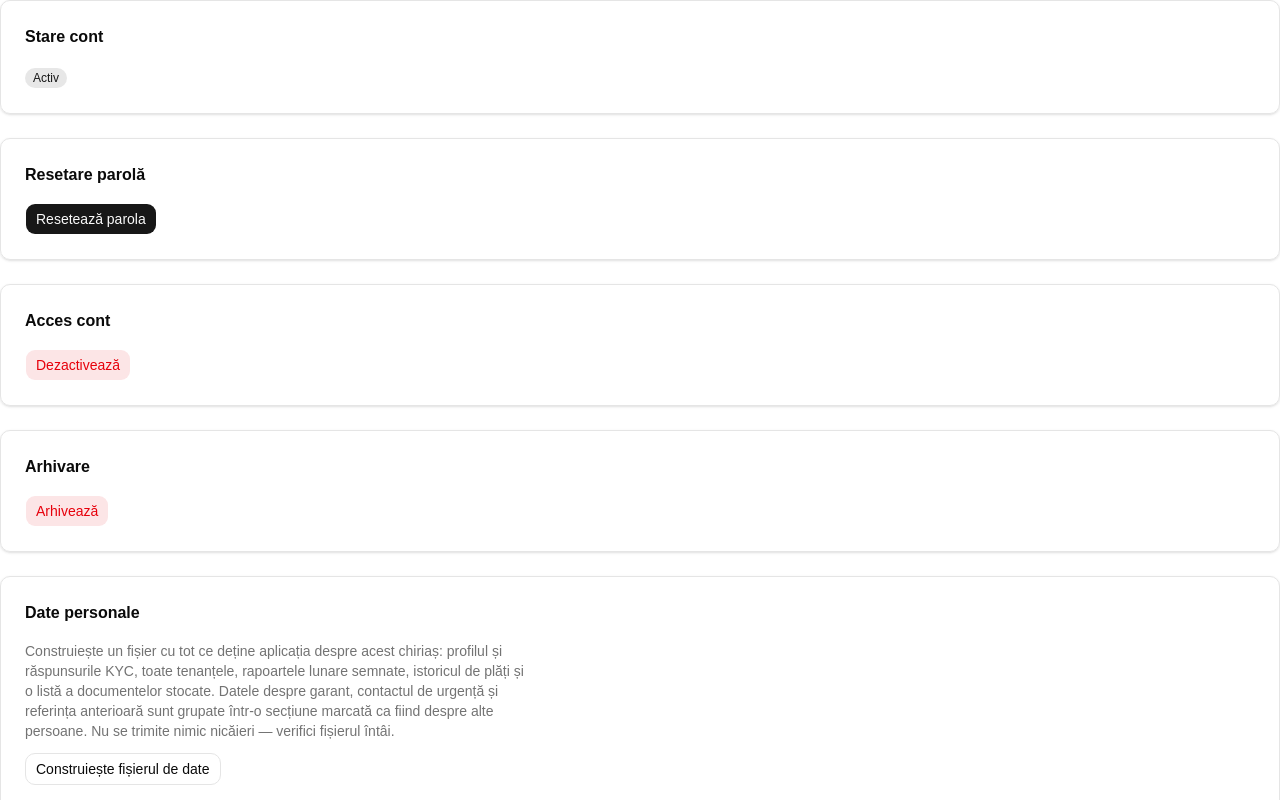
Test case: AccountTab — Disable / Re-enable › shows an error message instead of crashing when the callable fails
Click the button "Dezactivează": {"x": 78, "y": 365} top-left (25, 349), bottom-right (131, 381)
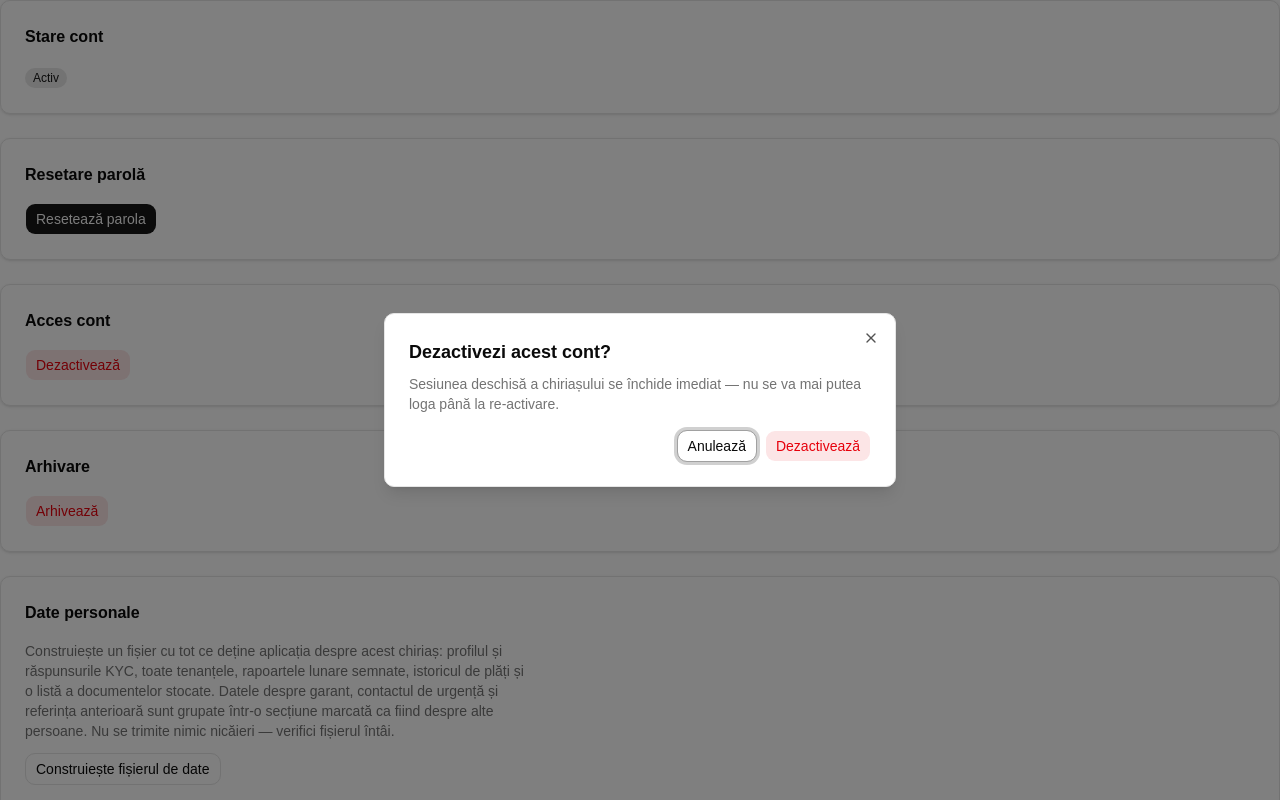
Click the button "Dezactivează": {"x": 818, "y": 446} top-left (765, 430), bottom-right (871, 462)
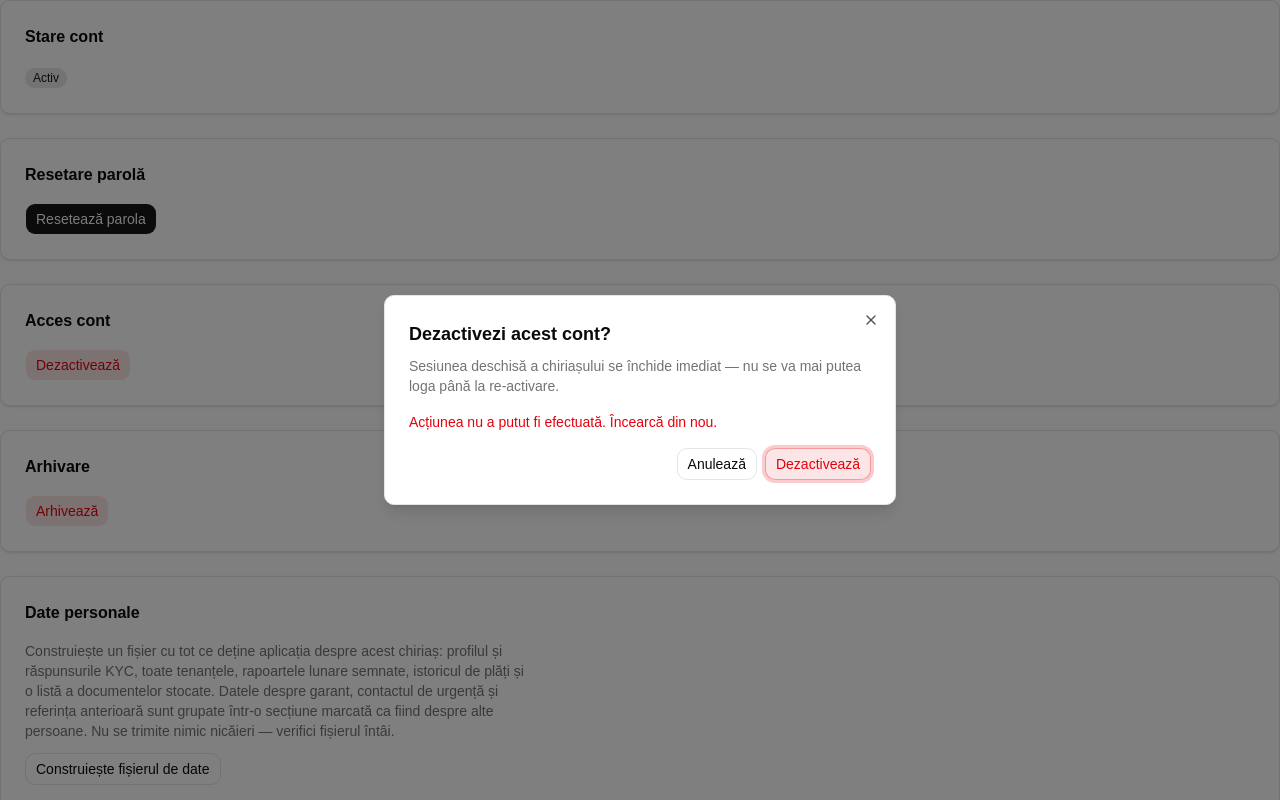
expect the text "Acțiunea nu a putut fi efectuată. Încearcă din nou." is shown: met, box top-left (409, 414), bottom-right (717, 430)
